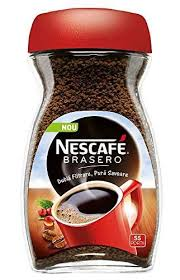nescafe-classic/gold-small: (25, 7, 155, 269)
